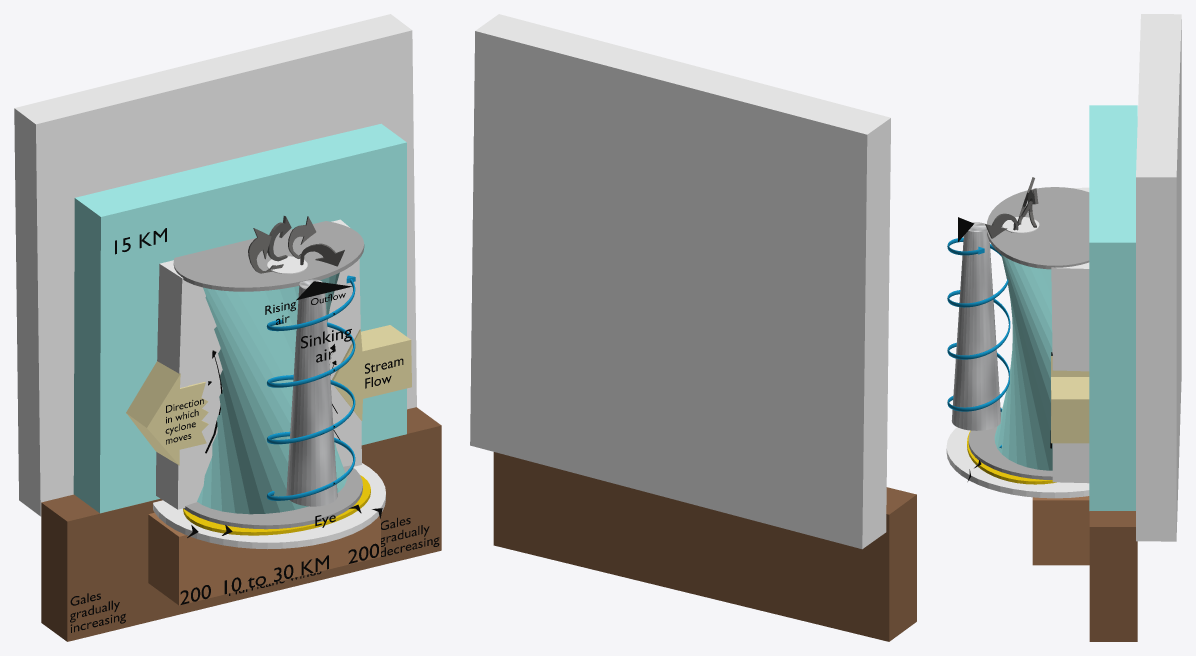
The model's file is Cyclone Structure.gltf.
3 views of the same model, side by side, from view 1: azimuth 30°, elevation 25°; view 2: azimuth 150°, elevation 25°; view 3: azimuth 270°, elevation 25° (orthographic). The views are drawn at different scales.
Parts seen in each view (by area): view 1: Circle.008, Text.012, Text.010; view 2: Circle.008; view 3: Circle.008.
Part boxes in pixels (x1,y1,x2,y2): Circle.008: [14, 14, 441, 641]; Text.012: [381, 517, 439, 556]; Text.010: [70, 593, 125, 632]; Circle.008: [470, 14, 916, 641]; Circle.008: [946, 14, 1181, 641].
Bounding box in the file's own units: 27.2 × 34.5 × 15.96.
13 materials, 1 textured.
